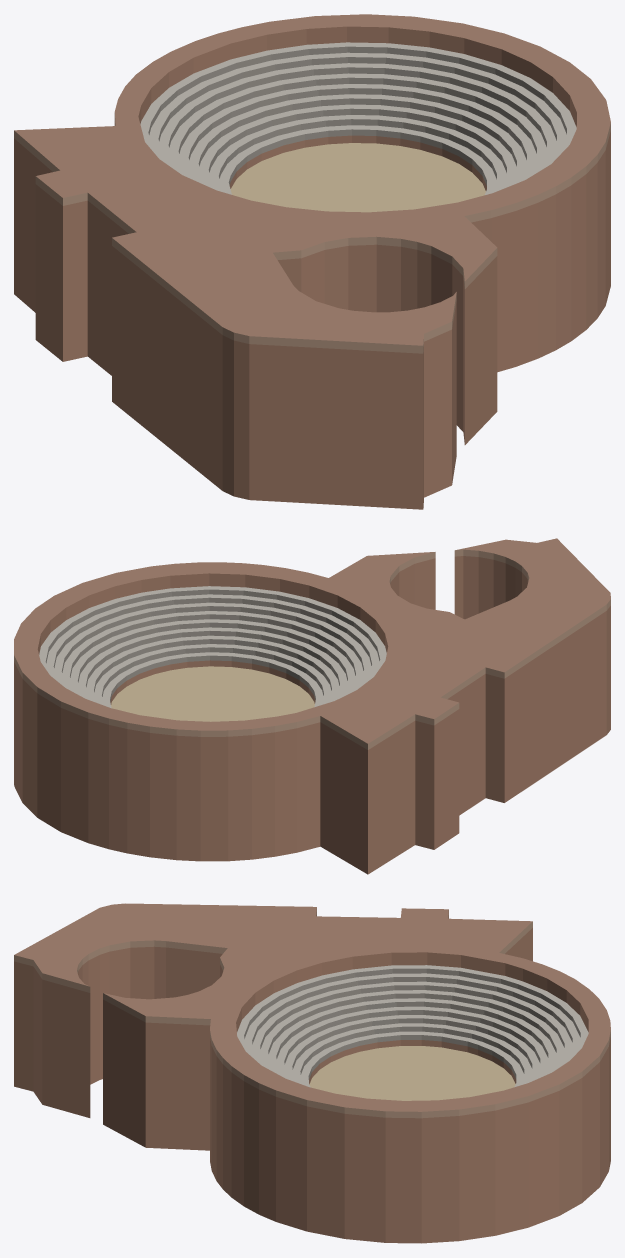
File: santamaria.glb
3 renders of one model, top to bottom at view 1: azimuth 30°, elevation 25°; view 2: azimuth 150°, elevation 25°; view 3: azimuth 270°, elevation 25°, orthographic. The views are drawn at different scales.
Visible parts, largest first — view 1: santamaria; view 2: santamaria; view 3: santamaria.
Boxes of the visible parts, x1=… form: santamaria: x1=14, y1=14, x2=610, y2=509; santamaria: x1=14, y1=538, x2=610, y2=874; santamaria: x1=14, y1=903, x2=610, y2=1243.
Bounding box in the file's own units: 105 × 31 × 127.
